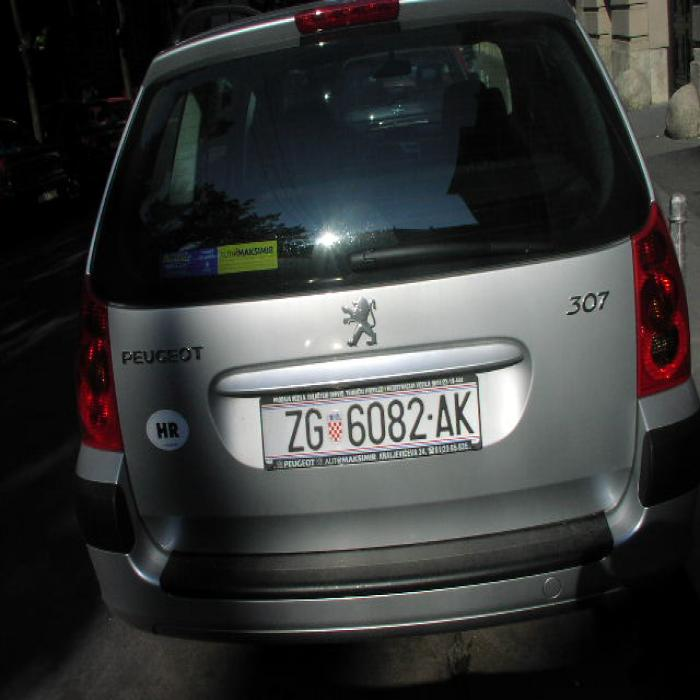number_plate: (261, 391, 476, 467)
